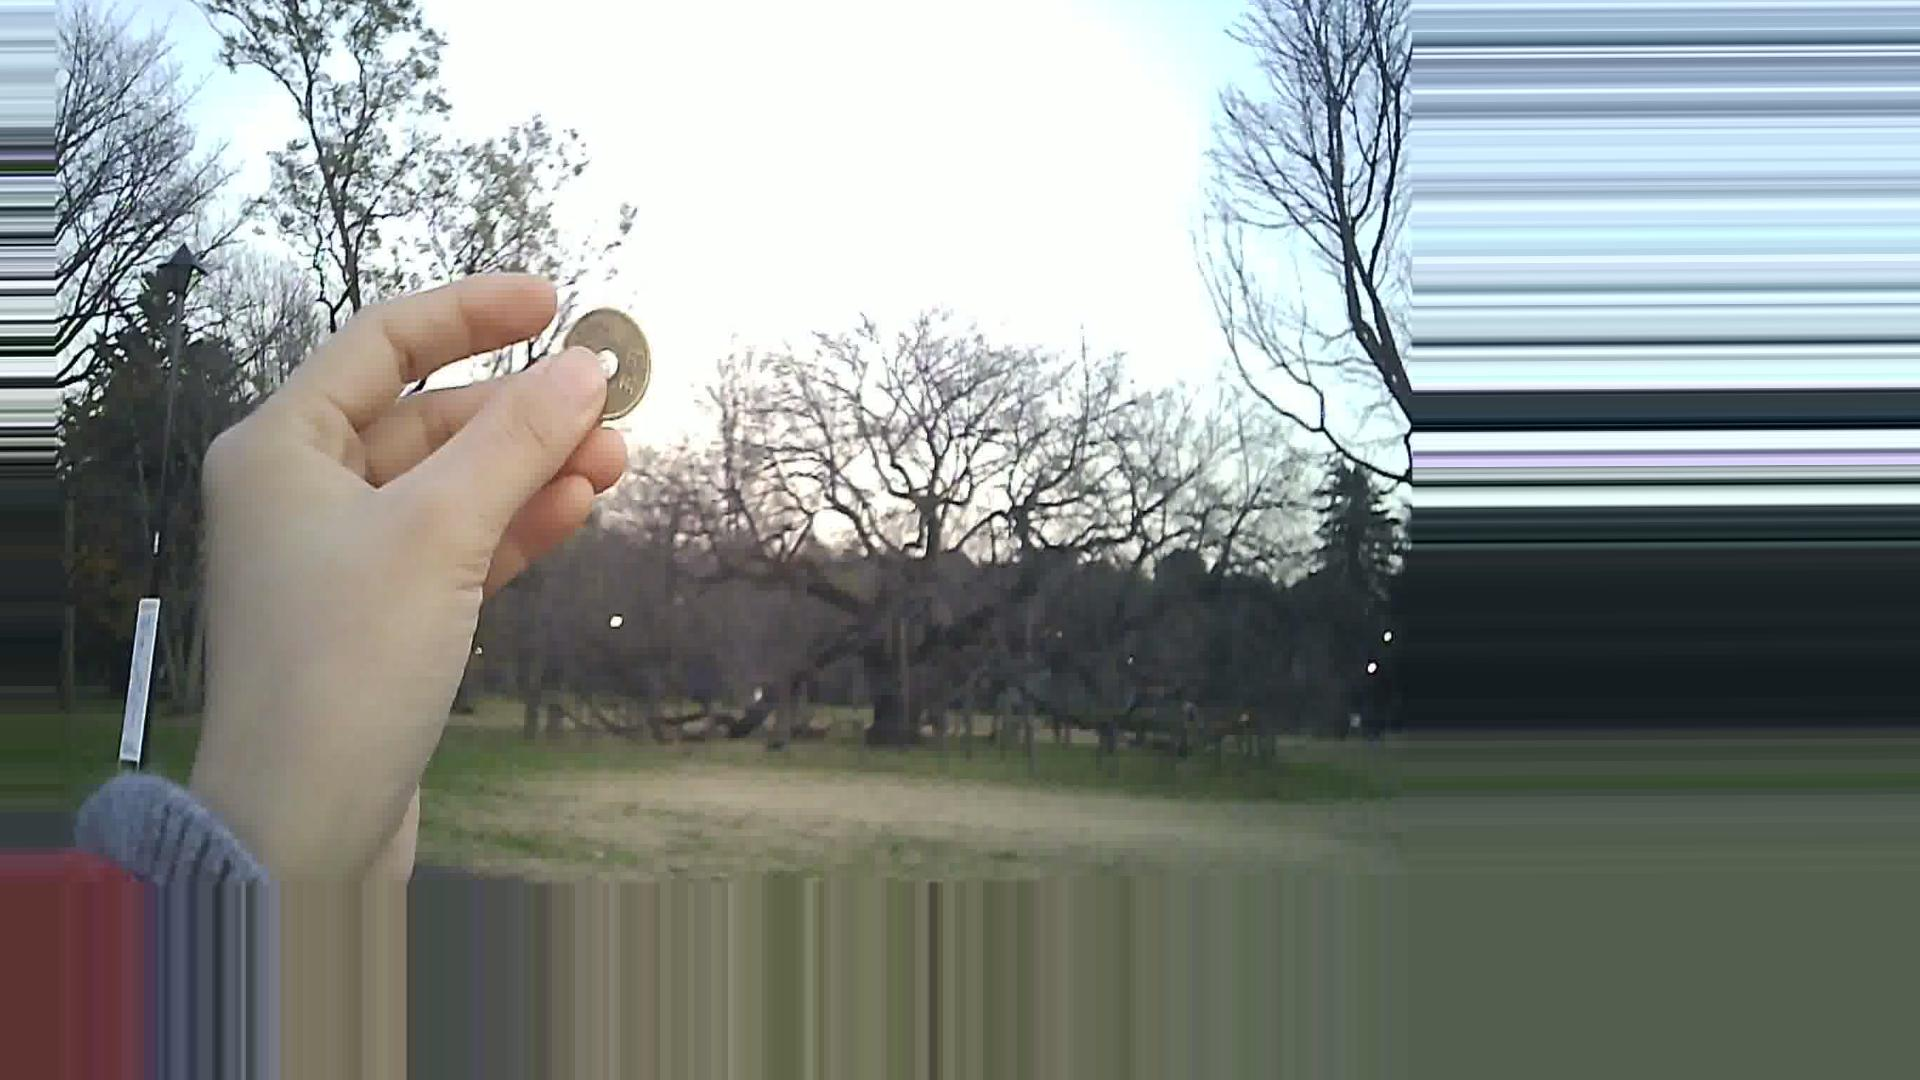5 Yen: (556, 297, 665, 426)
